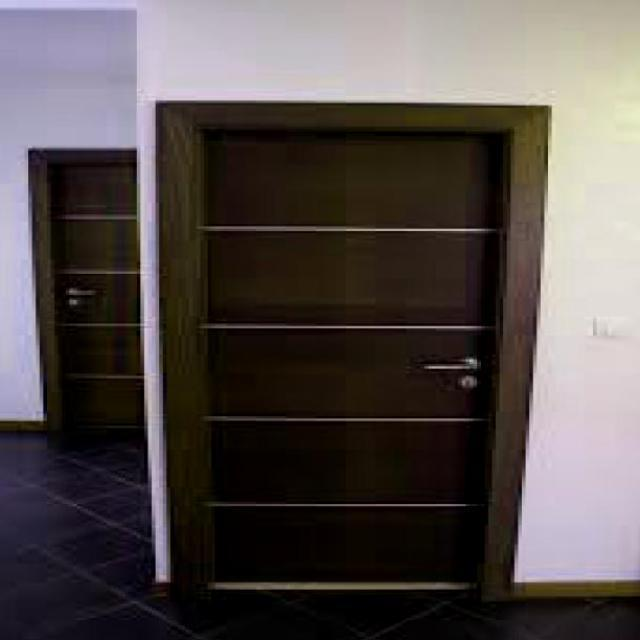door: (152, 79, 592, 595), (29, 154, 150, 422)
